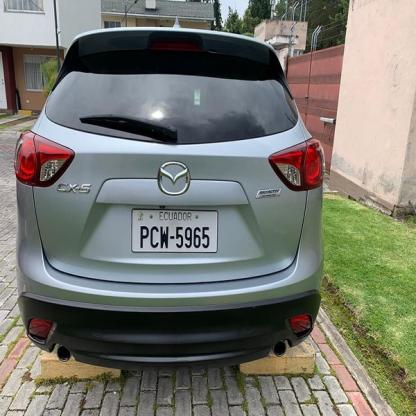Placa: (130, 205, 220, 254)
